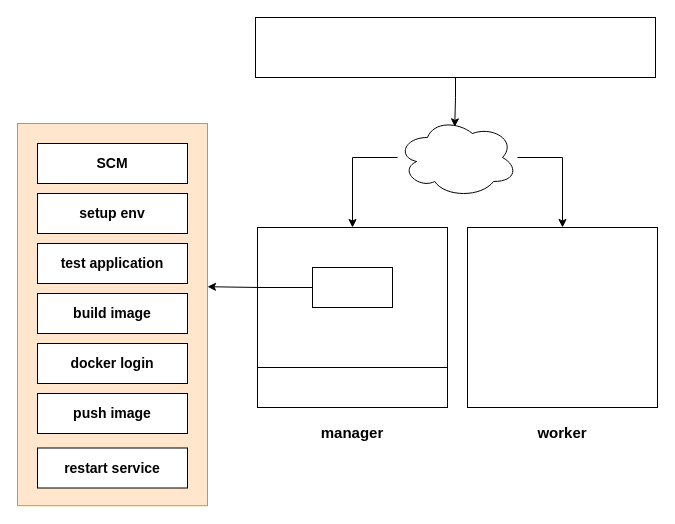
Image size: 675x524. Some labels were removed from this diagram. The shapes that lost their labels are listed below. From the top down, each one's centre as x and y in pixels, then its label:
(455,47): Docker Registry (Docker Hub)
(352,287): pipeline
(352,387): Jenkins
